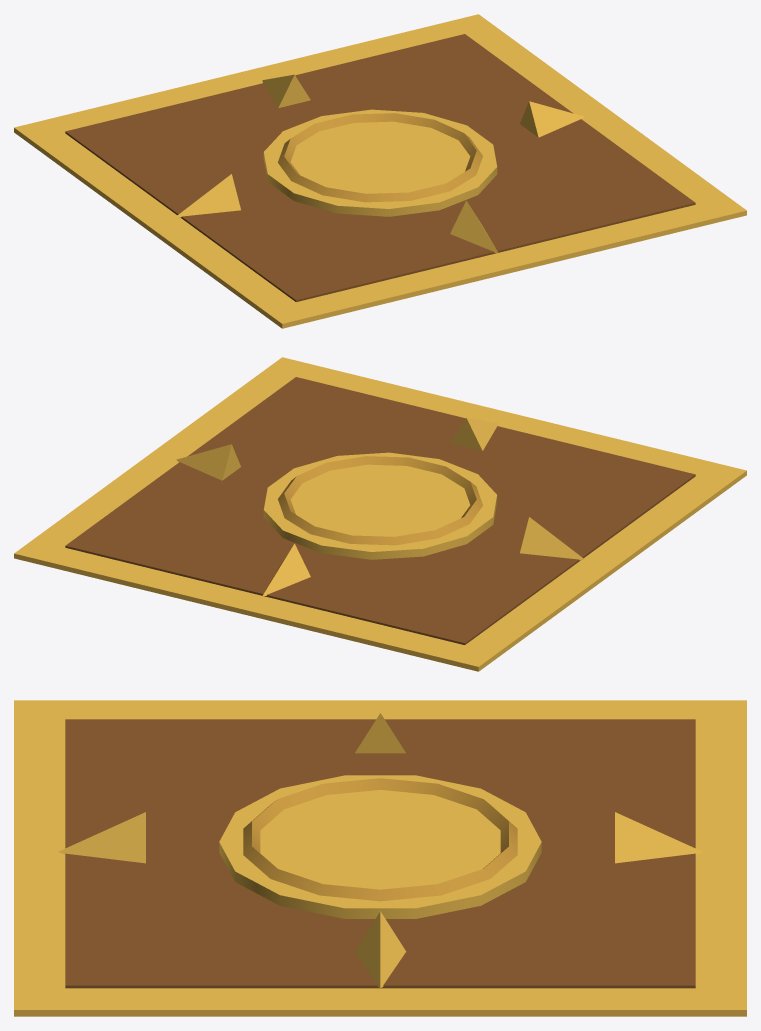
File: PR_Building_Odeme.fbx
The picture shows the model from 3 angles, top to bottom: view 1: azimuth 30°, elevation 25°; view 2: azimuth 150°, elevation 25°; view 3: azimuth 270°, elevation 25°; orthographic projection. The views are drawn at different scales.
Parts seen in each view (by area): view 1: PR_Building_Odeme; view 2: PR_Building_Odeme; view 3: PR_Building_Odeme.
Part boxes in pixels (x1,y1,x2,y2): PR_Building_Odeme: [14, 14, 746, 328]; PR_Building_Odeme: [14, 357, 746, 671]; PR_Building_Odeme: [14, 700, 746, 1016].
Bounding box in the file's own units: 1 × 0.09 × 1.
